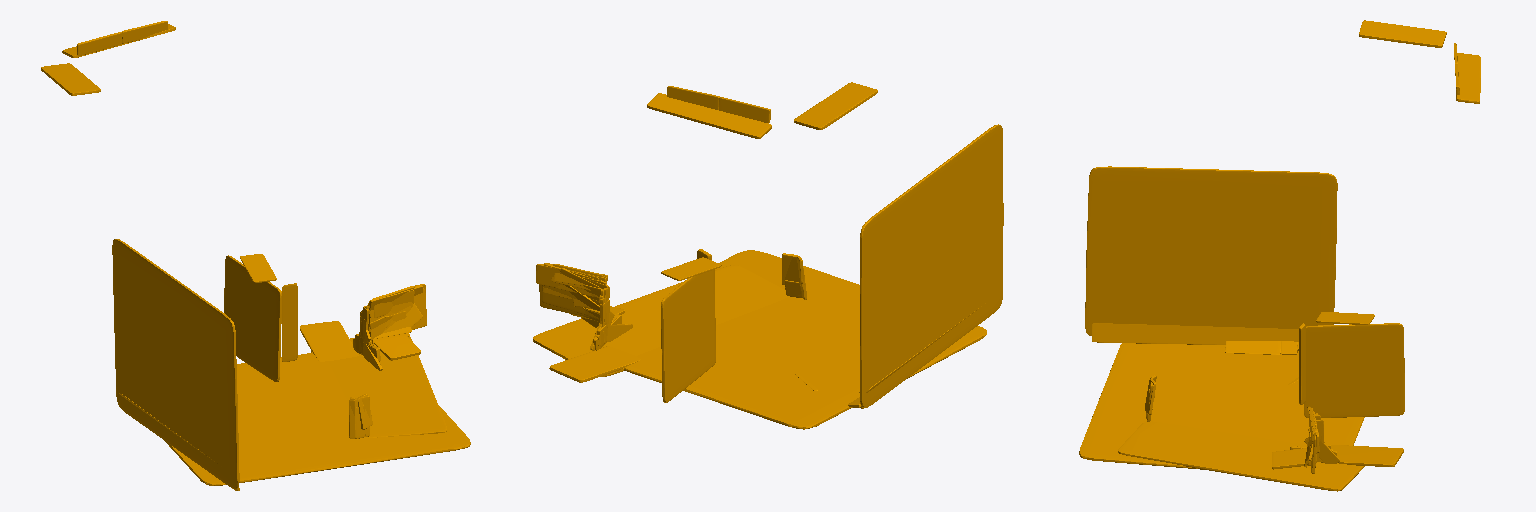
URDF robot description (scene):
<?xml version='1.0' encoding='utf-8'?>
<robot name="scene"><link name="scene_link"><visual><origin xyz="0.000000 0.000000 0.000000" rpy="0.000000 -0.000000 0.000000" /><geometry><mesh filename="part_000.obj" /></geometry></visual><collision><origin xyz="0.000000 0.000000 0.000000" rpy="0.000000 -0.000000 0.000000" /><geometry><mesh filename="part_000.obj" /></geometry></collision><visual><origin xyz="0.000000 0.000000 0.000000" rpy="0.000000 -0.000000 0.000000" /><geometry><mesh filename="part_001.obj" /></geometry></visual><collision><origin xyz="0.000000 0.000000 0.000000" rpy="0.000000 -0.000000 0.000000" /><geometry><mesh filename="part_001.obj" /></geometry></collision><visual><origin xyz="0.000000 0.000000 0.000000" rpy="0.000000 -0.000000 0.000000" /><geometry><mesh filename="part_002.obj" /></geometry></visual><collision><origin xyz="0.000000 0.000000 0.000000" rpy="0.000000 -0.000000 0.000000" /><geometry><mesh filename="part_002.obj" /></geometry></collision><visual><origin xyz="0.000000 0.000000 0.000000" rpy="0.000000 -0.000000 0.000000" /><geometry><mesh filename="part_003.obj" /></geometry></visual><collision><origin xyz="0.000000 0.000000 0.000000" rpy="0.000000 -0.000000 0.000000" /><geometry><mesh filename="part_003.obj" /></geometry></collision><visual><origin xyz="0.000000 0.000000 0.000000" rpy="0.000000 -0.000000 0.000000" /><geometry><mesh filename="part_004.obj" /></geometry></visual><collision><origin xyz="0.000000 0.000000 0.000000" rpy="0.000000 -0.000000 0.000000" /><geometry><mesh filename="part_004.obj" /></geometry></collision><visual><origin xyz="0.000000 0.000000 0.000000" rpy="0.000000 -0.000000 0.000000" /><geometry><mesh filename="part_005.obj" /></geometry></visual><collision><origin xyz="0.000000 0.000000 0.000000" rpy="0.000000 -0.000000 0.000000" /><geometry><mesh filename="part_005.obj" /></geometry></collision><visual><origin xyz="0.000000 0.000000 0.000000" rpy="0.000000 -0.000000 0.000000" /><geometry><mesh filename="part_006.obj" /></geometry></visual><collision><origin xyz="0.000000 0.000000 0.000000" rpy="0.000000 -0.000000 0.000000" /><geometry><mesh filename="part_006.obj" /></geometry></collision><visual><origin xyz="0.000000 0.000000 0.000000" rpy="0.000000 -0.000000 0.000000" /><geometry><mesh filename="part_007.obj" /></geometry></visual><collision><origin xyz="0.000000 0.000000 0.000000" rpy="0.000000 -0.000000 0.000000" /><geometry><mesh filename="part_007.obj" /></geometry></collision><visual><origin xyz="0.000000 0.000000 0.000000" rpy="0.000000 -0.000000 0.000000" /><geometry><mesh filename="part_008.obj" /></geometry></visual><collision><origin xyz="0.000000 0.000000 0.000000" rpy="0.000000 -0.000000 0.000000" /><geometry><mesh filename="part_008.obj" /></geometry></collision><visual><origin xyz="0.000000 0.000000 0.000000" rpy="0.000000 -0.000000 0.000000" /><geometry><mesh filename="part_009.obj" /></geometry></visual><collision><origin xyz="0.000000 0.000000 0.000000" rpy="0.000000 -0.000000 0.000000" /><geometry><mesh filename="part_009.obj" /></geometry></collision><visual><origin xyz="0.000000 0.000000 0.000000" rpy="0.000000 -0.000000 0.000000" /><geometry><mesh filename="part_010.obj" /></geometry></visual><collision><origin xyz="0.000000 0.000000 0.000000" rpy="0.000000 -0.000000 0.000000" /><geometry><mesh filename="part_010.obj" /></geometry></collision><visual><origin xyz="0.000000 0.000000 0.000000" rpy="0.000000 -0.000000 0.000000" /><geometry><mesh filename="part_011.obj" /></geometry></visual><collision><origin xyz="0.000000 0.000000 0.000000" rpy="0.000000 -0.000000 0.000000" /><geometry><mesh filename="part_011.obj" /></geometry></collision><visual><origin xyz="0.000000 0.000000 0.000000" rpy="0.000000 -0.000000 0.000000" /><geometry><mesh filename="part_012.obj" /></geometry></visual><collision><origin xyz="0.000000 0.000000 0.000000" rpy="0.000000 -0.000000 0.000000" /><geometry><mesh filename="part_012.obj" /></geometry></collision><visual><origin xyz="0.000000 0.000000 0.000000" rpy="0.000000 -0.000000 0.000000" /><geometry><mesh filename="part_013.obj" /></geometry></visual><collision><origin xyz="0.000000 0.000000 0.000000" rpy="0.000000 -0.000000 0.000000" /><geometry><mesh filename="part_013.obj" /></geometry></collision><visual><origin xyz="0.000000 0.000000 0.000000" rpy="0.000000 -0.000000 0.000000" /><geometry><mesh filename="part_014.obj" /></geometry></visual><collision><origin xyz="0.000000 0.000000 0.000000" rpy="0.000000 -0.000000 0.000000" /><geometry><mesh filename="part_014.obj" /></geometry></collision><visual><origin xyz="0.000000 0.000000 0.000000" rpy="0.000000 -0.000000 0.000000" /><geometry><mesh filename="part_015.obj" /></geometry></visual><collision><origin xyz="0.000000 0.000000 0.000000" rpy="0.000000 -0.000000 0.000000" /><geometry><mesh filename="part_015.obj" /></geometry></collision><visual><origin xyz="0.000000 0.000000 0.000000" rpy="0.000000 -0.000000 0.000000" /><geometry><mesh filename="part_016.obj" /></geometry></visual><collision><origin xyz="0.000000 0.000000 0.000000" rpy="0.000000 -0.000000 0.000000" /><geometry><mesh filename="part_016.obj" /></geometry></collision><visual><origin xyz="0.000000 0.000000 0.000000" rpy="0.000000 -0.000000 0.000000" /><geometry><mesh filename="part_017.obj" /></geometry></visual><collision><origin xyz="0.000000 0.000000 0.000000" rpy="0.000000 -0.000000 0.000000" /><geometry><mesh filename="part_017.obj" /></geometry></collision><visual><origin xyz="0.000000 0.000000 0.000000" rpy="0.000000 -0.000000 0.000000" /><geometry><mesh filename="part_018.obj" /></geometry></visual><collision><origin xyz="0.000000 0.000000 0.000000" rpy="0.000000 -0.000000 0.000000" /><geometry><mesh filename="part_018.obj" /></geometry></collision><visual><origin xyz="0.000000 0.000000 0.000000" rpy="0.000000 -0.000000 0.000000" /><geometry><mesh filename="part_019.obj" /></geometry></visual><collision><origin xyz="0.000000 0.000000 0.000000" rpy="0.000000 -0.000000 0.000000" /><geometry><mesh filename="part_019.obj" /></geometry></collision><visual><origin xyz="0.000000 0.000000 0.000000" rpy="0.000000 -0.000000 0.000000" /><geometry><mesh filename="part_020.obj" /></geometry></visual><collision><origin xyz="0.000000 0.000000 0.000000" rpy="0.000000 -0.000000 0.000000" /><geometry><mesh filename="part_020.obj" /></geometry></collision><visual><origin xyz="0.000000 0.000000 0.000000" rpy="0.000000 -0.000000 0.000000" /><geometry><mesh filename="part_021.obj" /></geometry></visual><collision><origin xyz="0.000000 0.000000 0.000000" rpy="0.000000 -0.000000 0.000000" /><geometry><mesh filename="part_021.obj" /></geometry></collision><visual><origin xyz="0.000000 0.000000 0.000000" rpy="0.000000 -0.000000 0.000000" /><geometry><mesh filename="part_022.obj" /></geometry></visual><collision><origin xyz="0.000000 0.000000 0.000000" rpy="0.000000 -0.000000 0.000000" /><geometry><mesh filename="part_022.obj" /></geometry></collision><visual><origin xyz="0.000000 0.000000 0.000000" rpy="0.000000 -0.000000 0.000000" /><geometry><mesh filename="part_023.obj" /></geometry></visual><collision><origin xyz="0.000000 0.000000 0.000000" rpy="0.000000 -0.000000 0.000000" /><geometry><mesh filename="part_023.obj" /></geometry></collision><visual><origin xyz="0.000000 0.000000 0.000000" rpy="0.000000 -0.000000 0.000000" /><geometry><mesh filename="part_024.obj" /></geometry></visual><collision><origin xyz="0.000000 0.000000 0.000000" rpy="0.000000 -0.000000 0.000000" /><geometry><mesh filename="part_024.obj" /></geometry></collision><visual><origin xyz="0.000000 0.000000 0.000000" rpy="0.000000 -0.000000 0.000000" /><geometry><mesh filename="part_025.obj" /></geometry></visual><collision><origin xyz="0.000000 0.000000 0.000000" rpy="0.000000 -0.000000 0.000000" /><geometry><mesh filename="part_025.obj" /></geometry></collision><visual><origin xyz="0.000000 0.000000 0.000000" rpy="0.000000 -0.000000 0.000000" /><geometry><mesh filename="part_026.obj" /></geometry></visual><collision><origin xyz="0.000000 0.000000 0.000000" rpy="0.000000 -0.000000 0.000000" /><geometry><mesh filename="part_026.obj" /></geometry></collision><visual><origin xyz="0.000000 0.000000 0.000000" rpy="0.000000 -0.000000 0.000000" /><geometry><mesh filename="part_027.obj" /></geometry></visual><collision><origin xyz="0.000000 0.000000 0.000000" rpy="0.000000 -0.000000 0.000000" /><geometry><mesh filename="part_027.obj" /></geometry></collision><visual><origin xyz="0.000000 0.000000 0.000000" rpy="0.000000 -0.000000 0.000000" /><geometry><mesh filename="part_028.obj" /></geometry></visual><collision><origin xyz="0.000000 0.000000 0.000000" rpy="0.000000 -0.000000 0.000000" /><geometry><mesh filename="part_028.obj" /></geometry></collision><visual><origin xyz="0.000000 0.000000 0.000000" rpy="0.000000 -0.000000 0.000000" /><geometry><mesh filename="part_029.obj" /></geometry></visual><collision><origin xyz="0.000000 0.000000 0.000000" rpy="0.000000 -0.000000 0.000000" /><geometry><mesh filename="part_029.obj" /></geometry></collision><visual><origin xyz="0.000000 0.000000 0.000000" rpy="0.000000 -0.000000 0.000000" /><geometry><mesh filename="part_030.obj" /></geometry></visual><collision><origin xyz="0.000000 0.000000 0.000000" rpy="0.000000 -0.000000 0.000000" /><geometry><mesh filename="part_030.obj" /></geometry></collision><visual><origin xyz="0.000000 0.000000 0.000000" rpy="0.000000 -0.000000 0.000000" /><geometry><mesh filename="part_031.obj" /></geometry></visual><collision><origin xyz="0.000000 0.000000 0.000000" rpy="0.000000 -0.000000 0.000000" /><geometry><mesh filename="part_031.obj" /></geometry></collision><visual><origin xyz="0.000000 0.000000 0.000000" rpy="0.000000 -0.000000 0.000000" /><geometry><mesh filename="part_032.obj" /></geometry></visual><collision><origin xyz="0.000000 0.000000 0.000000" rpy="0.000000 -0.000000 0.000000" /><geometry><mesh filename="part_032.obj" /></geometry></collision><visual><origin xyz="0.000000 0.000000 0.000000" rpy="0.000000 -0.000000 0.000000" /><geometry><mesh filename="part_033.obj" /></geometry></visual><collision><origin xyz="0.000000 0.000000 0.000000" rpy="0.000000 -0.000000 0.000000" /><geometry><mesh filename="part_033.obj" /></geometry></collision><visual><origin xyz="0.000000 0.000000 0.000000" rpy="0.000000 -0.000000 0.000000" /><geometry><mesh filename="part_034.obj" /></geometry></visual><collision><origin xyz="0.000000 0.000000 0.000000" rpy="0.000000 -0.000000 0.000000" /><geometry><mesh filename="part_034.obj" /></geometry></collision><visual><origin xyz="0.000000 0.000000 0.000000" rpy="0.000000 -0.000000 0.000000" /><geometry><mesh filename="part_035.obj" /></geometry></visual><collision><origin xyz="0.000000 0.000000 0.000000" rpy="0.000000 -0.000000 0.000000" /><geometry><mesh filename="part_035.obj" /></geometry></collision><visual><origin xyz="0.000000 0.000000 0.000000" rpy="0.000000 -0.000000 0.000000" /><geometry><mesh filename="part_036.obj" /></geometry></visual><collision><origin xyz="0.000000 0.000000 0.000000" rpy="0.000000 -0.000000 0.000000" /><geometry><mesh filename="part_036.obj" /></geometry></collision><visual><origin xyz="0.000000 0.000000 0.000000" rpy="0.000000 -0.000000 0.000000" /><geometry><mesh filename="part_037.obj" /></geometry></visual><collision><origin xyz="0.000000 0.000000 0.000000" rpy="0.000000 -0.000000 0.000000" /><geometry><mesh filename="part_037.obj" /></geometry></collision><visual><origin xyz="0.000000 0.000000 0.000000" rpy="0.000000 -0.000000 0.000000" /><geometry><mesh filename="part_038.obj" /></geometry></visual><collision><origin xyz="0.000000 0.000000 0.000000" rpy="0.000000 -0.000000 0.000000" /><geometry><mesh filename="part_038.obj" /></geometry></collision><visual><origin xyz="0.000000 0.000000 0.000000" rpy="0.000000 -0.000000 0.000000" /><geometry><mesh filename="part_039.obj" /></geometry></visual><collision><origin xyz="0.000000 0.000000 0.000000" rpy="0.000000 -0.000000 0.000000" /><geometry><mesh filename="part_039.obj" /></geometry></collision><visual><origin xyz="0.000000 0.000000 0.000000" rpy="0.000000 -0.000000 0.000000" /><geometry><mesh filename="part_040.obj" /></geometry></visual><collision><origin xyz="0.000000 0.000000 0.000000" rpy="0.000000 -0.000000 0.000000" /><geometry><mesh filename="part_040.obj" /></geometry></collision><visual><origin xyz="0.000000 0.000000 0.000000" rpy="0.000000 -0.000000 0.000000" /><geometry><mesh filename="part_041.obj" /></geometry></visual><collision><origin xyz="0.000000 0.000000 0.000000" rpy="0.000000 -0.000000 0.000000" /><geometry><mesh filename="part_041.obj" /></geometry></collision><visual><origin xyz="0.000000 0.000000 0.000000" rpy="0.000000 -0.000000 0.000000" /><geometry><mesh filename="part_042.obj" /></geometry></visual><collision><origin xyz="0.000000 0.000000 0.000000" rpy="0.000000 -0.000000 0.000000" /><geometry><mesh filename="part_042.obj" /></geometry></collision><visual><origin xyz="0.000000 0.000000 0.000000" rpy="0.000000 -0.000000 0.000000" /><geometry><mesh filename="part_043.obj" /></geometry></visual><collision><origin xyz="0.000000 0.000000 0.000000" rpy="0.000000 -0.000000 0.000000" /><geometry><mesh filename="part_043.obj" /></geometry></collision><visual><origin xyz="0.000000 0.000000 0.000000" rpy="0.000000 -0.000000 0.000000" /><geometry><mesh filename="part_044.obj" /></geometry></visual><collision><origin xyz="0.000000 0.000000 0.000000" rpy="0.000000 -0.000000 0.000000" /><geometry><mesh filename="part_044.obj" /></geometry></collision><visual><origin xyz="0.000000 0.000000 0.000000" rpy="0.000000 -0.000000 0.000000" /><geometry><mesh filename="part_045.obj" /></geometry></visual><collision><origin xyz="0.000000 0.000000 0.000000" rpy="0.000000 -0.000000 0.000000" /><geometry><mesh filename="part_045.obj" /></geometry></collision><visual><origin xyz="0.000000 0.000000 0.000000" rpy="0.000000 -0.000000 0.000000" /><geometry><mesh filename="part_046.obj" /></geometry></visual><collision><origin xyz="0.000000 0.000000 0.000000" rpy="0.000000 -0.000000 0.000000" /><geometry><mesh filename="part_046.obj" /></geometry></collision><visual><origin xyz="0.000000 0.000000 0.000000" rpy="0.000000 -0.000000 0.000000" /><geometry><mesh filename="part_047.obj" /></geometry></visual><collision><origin xyz="0.000000 0.000000 0.000000" rpy="0.000000 -0.000000 0.000000" /><geometry><mesh filename="part_047.obj" /></geometry></collision><visual><origin xyz="0.000000 0.000000 0.000000" rpy="0.000000 -0.000000 0.000000" /><geometry><mesh filename="part_048.obj" /></geometry></visual><collision><origin xyz="0.000000 0.000000 0.000000" rpy="0.000000 -0.000000 0.000000" /><geometry><mesh filename="part_048.obj" /></geometry></collision><visual><origin xyz="0.000000 0.000000 0.000000" rpy="0.000000 -0.000000 0.000000" /><geometry><mesh filename="part_049.obj" /></geometry></visual><collision><origin xyz="0.000000 0.000000 0.000000" rpy="0.000000 -0.000000 0.000000" /><geometry><mesh filename="part_049.obj" /></geometry></collision><visual><origin xyz="0.000000 0.000000 0.000000" rpy="0.000000 -0.000000 0.000000" /><geometry><mesh filename="part_050.obj" /></geometry></visual><collision><origin xyz="0.000000 0.000000 0.000000" rpy="0.000000 -0.000000 0.000000" /><geometry><mesh filename="part_050.obj" /></geometry></collision><visual><origin xyz="0.000000 0.000000 0.000000" rpy="0.000000 -0.000000 0.000000" /><geometry><mesh filename="part_051.obj" /></geometry></visual><collision><origin xyz="0.000000 0.000000 0.000000" rpy="0.000000 -0.000000 0.000000" /><geometry><mesh filename="part_051.obj" /></geometry></collision><visual><origin xyz="0.000000 0.000000 0.000000" rpy="0.000000 -0.000000 0.000000" /><geometry><mesh filename="part_052.obj" /></geometry></visual><collision><origin xyz="0.000000 0.000000 0.000000" rpy="0.000000 -0.000000 0.000000" /><geometry><mesh filename="part_052.obj" /></geometry></collision><visual><origin xyz="0.000000 0.000000 0.000000" rpy="0.000000 -0.000000 0.000000" /><geometry><mesh filename="part_053.obj" /></geometry></visual><collision><origin xyz="0.000000 0.000000 0.000000" rpy="0.000000 -0.000000 0.000000" /><geometry><mesh filename="part_053.obj" /></geometry></collision></link></robot>

--- What the picture shows (computed from the rendered views, not written in the file) ---
3 views of the same robot in one strip: view 1: azimuth 30°, elevation 25°; view 2: azimuth 150°, elevation 25°; view 3: azimuth 270°, elevation 25° (orthographic).
Robot: scene — 1 links, 0 joints (none); root link scene_link; default pose: all joints at 0.
Links seen in each view (by area): view 1: scene_link; view 2: scene_link; view 3: scene_link.
Link boxes in pixels (x1,y1,x2,y2): scene_link: (41, 21, 470, 490); scene_link: (533, 82, 1003, 429); scene_link: (1079, 20, 1480, 491).
Bounding box of the posed robot: 5.08 × 5.33 × 4.77 m (x, y, z).
Meshes: 54 distinct files referenced, 54 mesh visuals loaded (54 OBJ).
